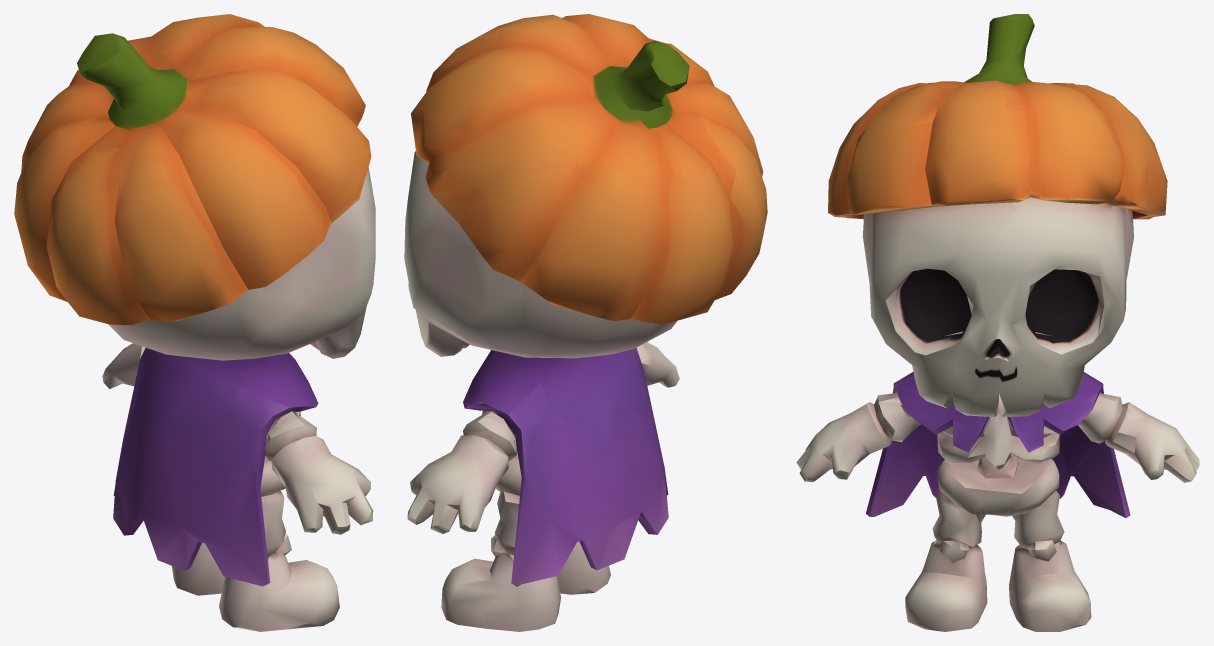
Rendered from E1_Skelly_LOD2.fbx.
The picture shows the model from 3 angles, left to right: view 1: azimuth 30°, elevation 25°; view 2: azimuth 150°, elevation 25°; view 3: azimuth 270°, elevation 25°; orthographic projection. The views are drawn at different scales.
Parts seen in each view (by area): view 1: E1_Skelly_LOD2; view 2: E1_Skelly_LOD2; view 3: E1_Skelly_LOD2.
Part boxes in pixels (left/top/right/bottom): E1_Skelly_LOD2: left=14, top=14, right=375, bottom=631; E1_Skelly_LOD2: left=404, top=14, right=767, bottom=631; E1_Skelly_LOD2: left=796, top=14, right=1199, bottom=631.
Bounding box in the file's own units: 0.1144 × 0.2002 × 0.1361.
1 material, 1 textured.
